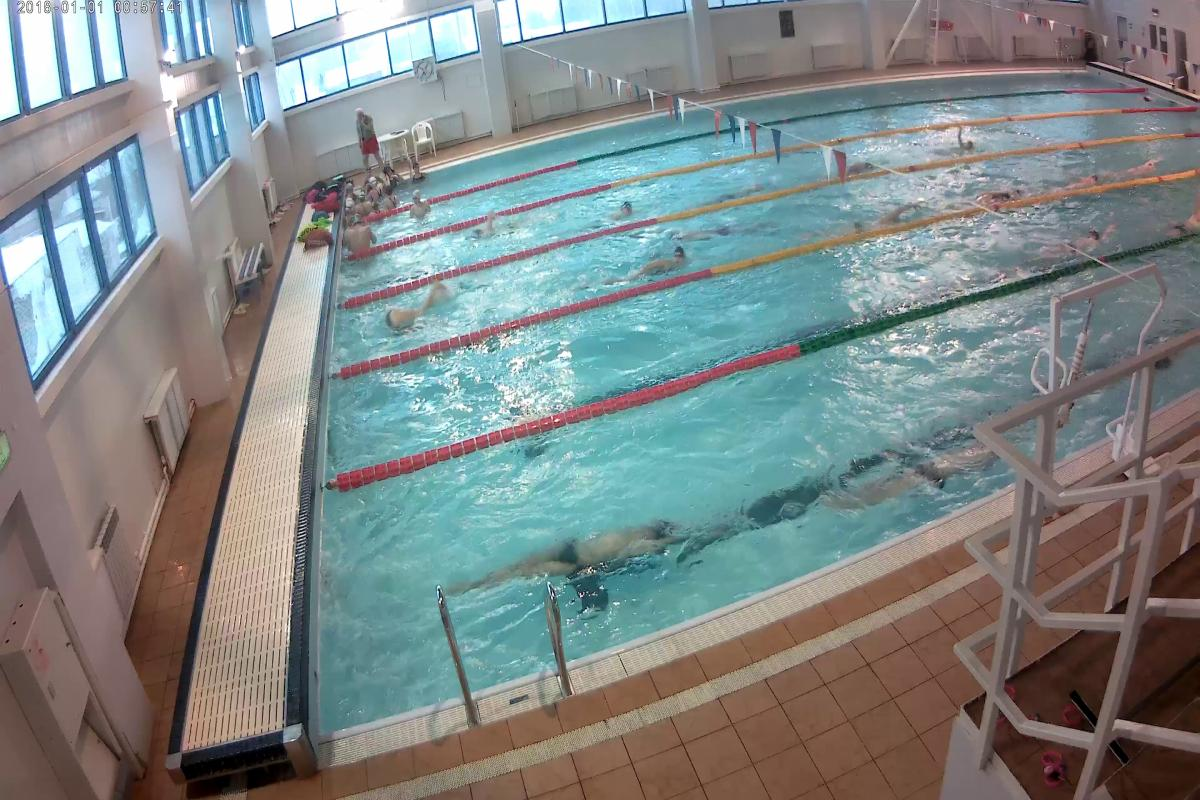swimmer: (508, 518, 688, 586), (386, 283, 452, 335), (617, 242, 694, 285), (1047, 222, 1116, 258), (981, 173, 1032, 203), (591, 196, 640, 224), (1120, 151, 1166, 178), (1054, 162, 1102, 187), (944, 130, 986, 157)
